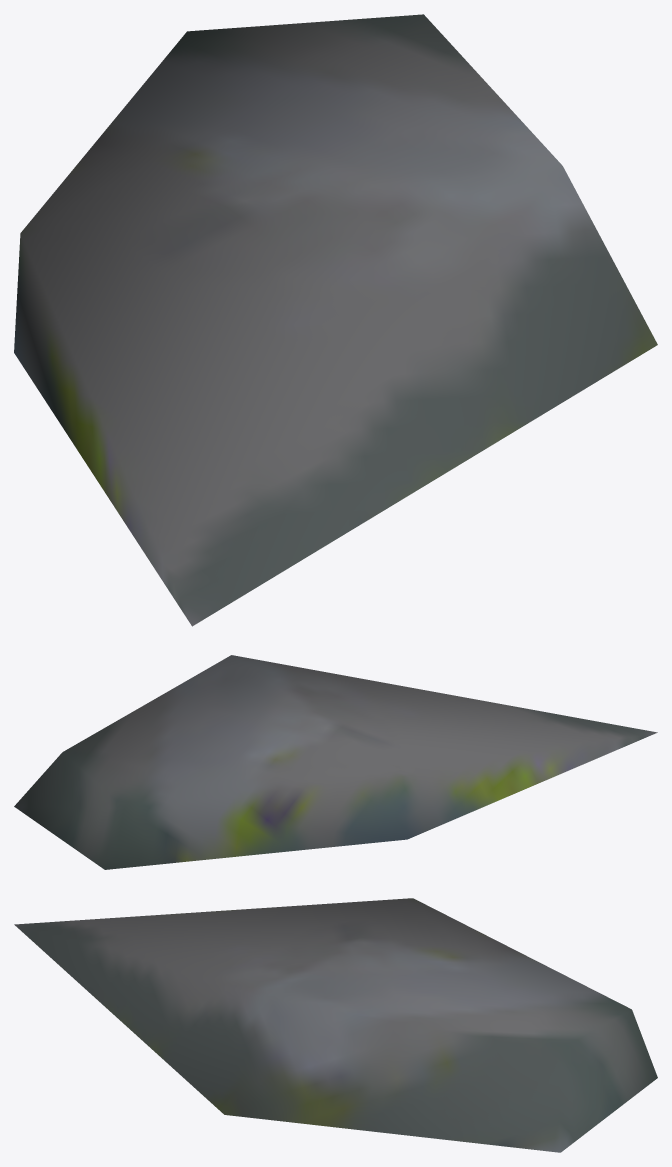
The model's file is yewai_xiaoshitou_02.FBX.
The picture shows the model from 3 angles, top to bottom: view 1: azimuth 30°, elevation 25°; view 2: azimuth 150°, elevation 25°; view 3: azimuth 270°, elevation 25°; orthographic projection. The views are drawn at different scales.
Parts seen in each view (by area): view 1: yewai_xiaoshitou_02; view 2: yewai_xiaoshitou_02; view 3: yewai_xiaoshitou_02.
Boxes of the visible parts, box(x1,y1,x2,y2) form: yewai_xiaoshitou_02: box(14, 14, 657, 626); yewai_xiaoshitou_02: box(14, 655, 657, 869); yewai_xiaoshitou_02: box(14, 898, 657, 1152).
Bounding box in the file's own units: 46.11 × 9.24 × 54.87.
